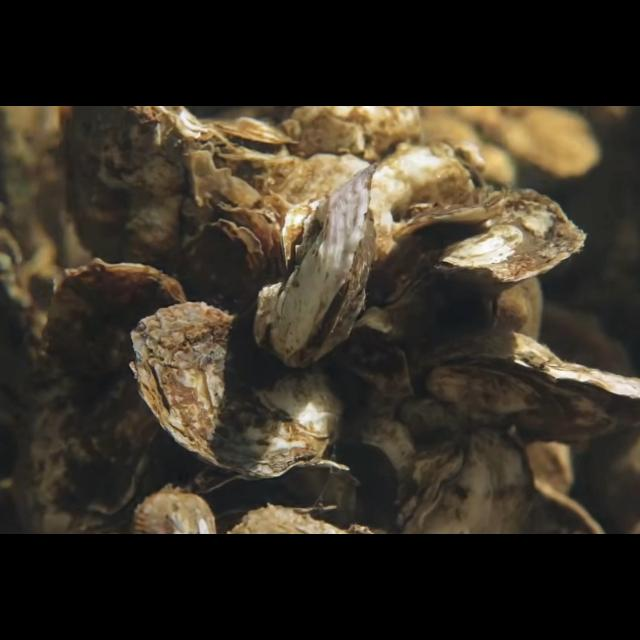Oyster-Closed: (31, 256, 188, 534), (127, 300, 349, 480), (62, 107, 220, 291), (378, 188, 588, 316), (251, 162, 379, 370), (392, 428, 538, 534), (180, 218, 266, 312)
Oyster-Open: (408, 332, 640, 448), (194, 458, 350, 518)
